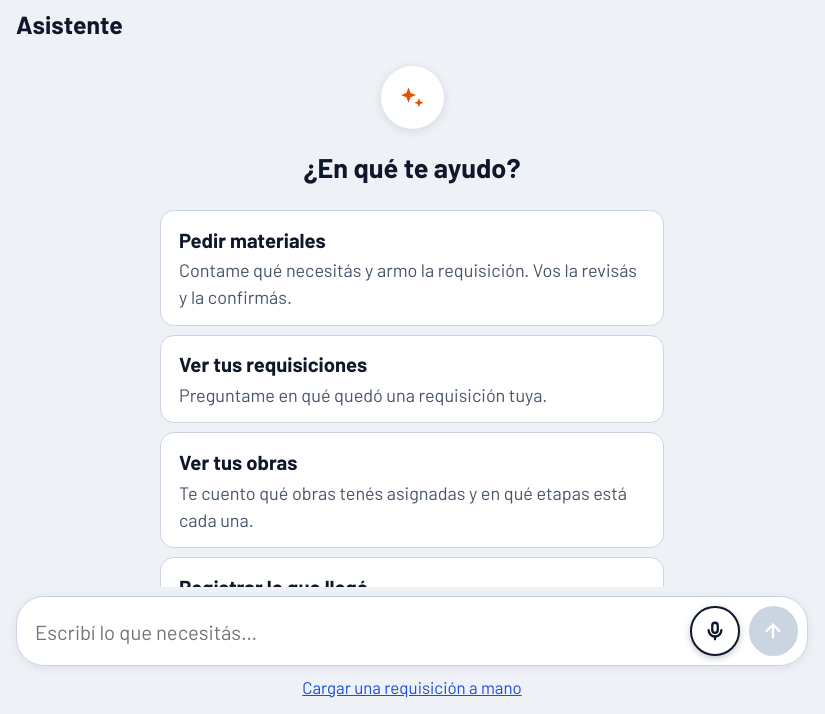
Test case: AsistenteChatPage: entrada por voz (#139) › al volver a tocar el micrófono se deja de escuchar y se puede editar el texto
(page scrolled)
Click the button named "Dictar por voz" at (715, 631), box top-left (690, 607), bottom-right (740, 656)
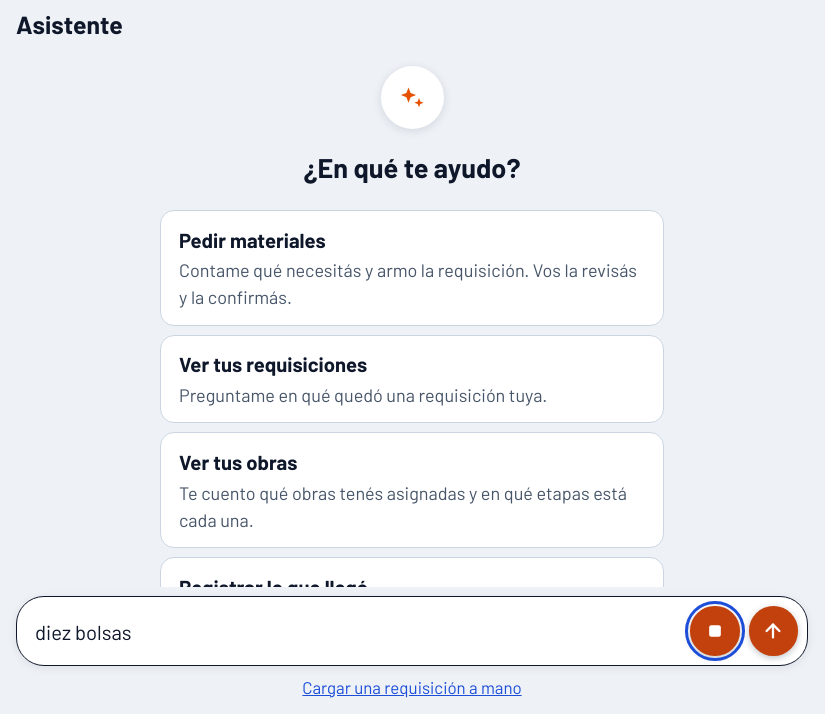
Click the button named "Dejar de dictar" at (715, 631), box top-left (690, 607), bottom-right (740, 656)
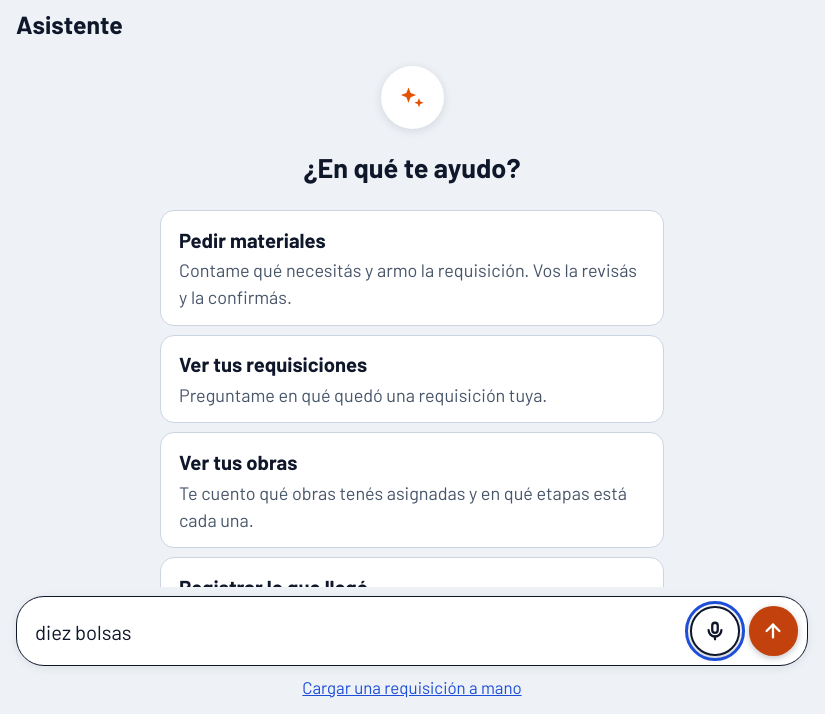
Expected: the button named "Dictar por voz" is not pressed, top-left (690, 607), bottom-right (740, 656)
Type " de cal" into the text box named "Escribí tu mensaje" at (358, 632), box top-left (35, 608), bottom-right (681, 656)
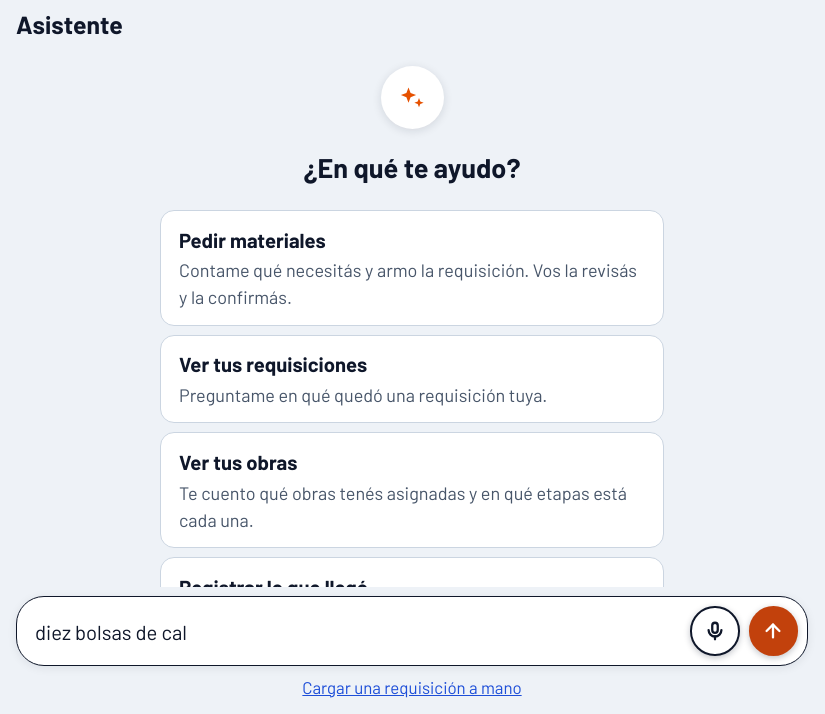
Expected: the text box named "Escribí tu mensaje" holds "diez bolsas de cal", top-left (35, 608), bottom-right (681, 656)
